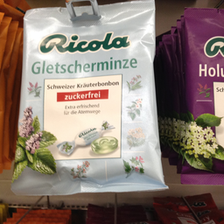candy: (9, 3, 166, 193), (176, 4, 224, 180)
